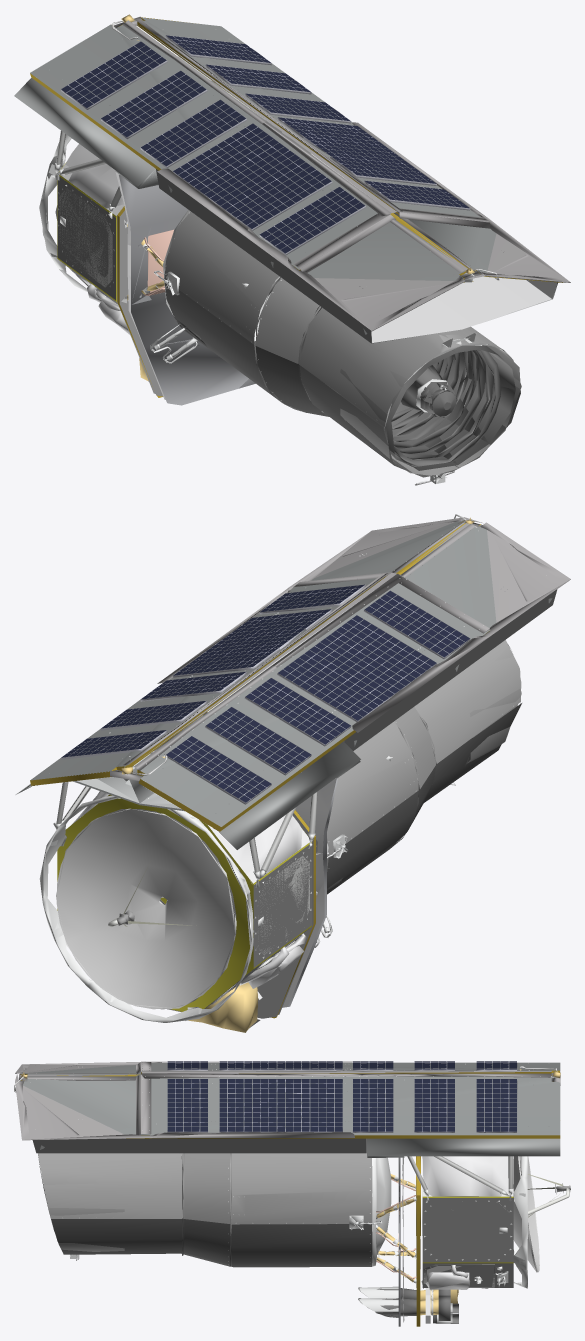
The model's file is spitzer_lod2.glb.
The picture shows the model from 3 angles, top to bottom: view 1: azimuth 30°, elevation 25°; view 2: azimuth 150°, elevation 25°; view 3: azimuth 270°, elevation 25°; orthographic projection. The views are drawn at different scales.
Visible parts, largest first — view 1: spitzer_lod2; view 2: spitzer_lod2; view 3: spitzer_lod2.
Boxes of the visible parts, left/top/right/bottom form: spitzer_lod2: left=14, top=14, right=570, bottom=485; spitzer_lod2: left=15, top=514, right=570, bottom=1032; spitzer_lod2: left=14, top=1061, right=570, bottom=1326.
Bounding box in the file's own units: 1.57 × 2.04 × 4.36.
